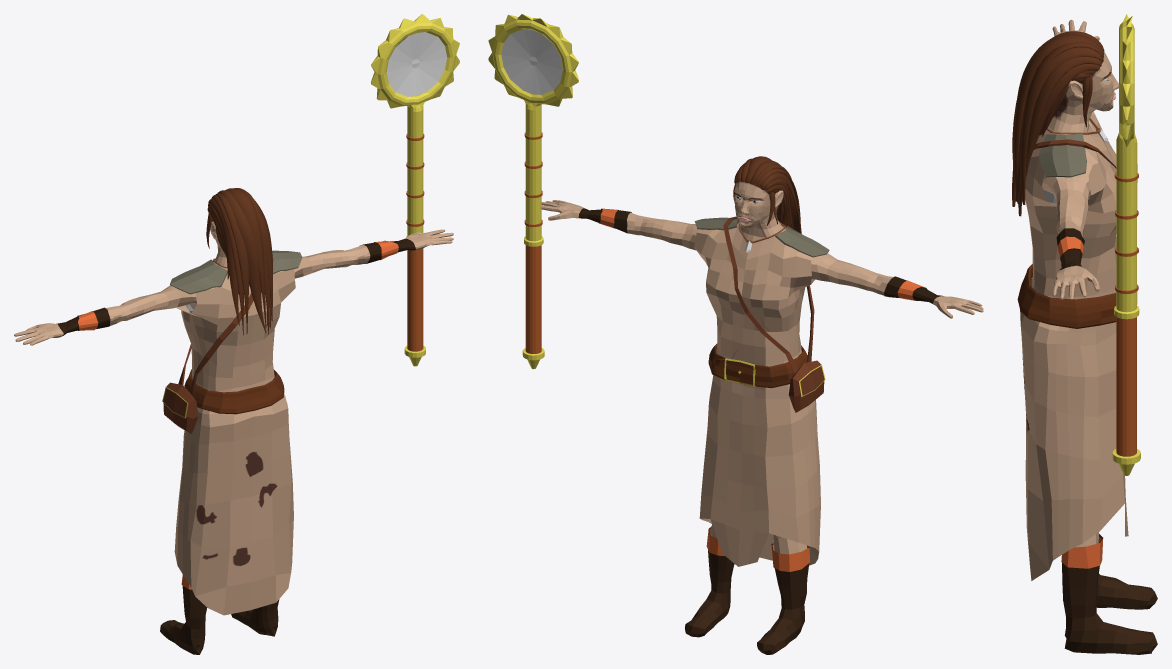
Rendered from clerichuman.fbx.
3 renders of one model, left to right at view 1: azimuth 30°, elevation 25°; view 2: azimuth 150°, elevation 25°; view 3: azimuth 270°, elevation 25°, orthographic. The views are drawn at different scales.
Visible parts, largest first — view 1: robe, staff, body, boots, belt, pack, NurbsPath.002, NurbsPath.001, NurbsPath.005, NurbsPath.007, NurbsPath.006; view 2: robe, staff, body, boots, pack, belt; view 3: robe, staff, body, boots, belt, NurbsPath.004, NurbsPath.001, NurbsPath.008, NurbsPath.009, NurbsPath.003, NurbsPath.002, pack (+2 smaller).
Part boxes in pixels (box(x1,y1,x2,y2)): robe: box(170, 250, 302, 615); staff: box(371, 14, 459, 366); body: box(14, 212, 453, 345); boots: box(160, 574, 279, 654); belt: box(184, 369, 284, 414); pack: box(162, 258, 273, 433); NurbsPath.002: box(218, 190, 266, 332); NurbsPath.001: box(225, 188, 266, 327); NurbsPath.005: box(215, 193, 249, 333); NurbsPath.007: box(208, 198, 239, 325); NurbsPath.006: box(211, 195, 243, 335); robe: box(694, 217, 829, 566); staff: box(488, 14, 578, 369); body: box(541, 180, 983, 554); boots: box(685, 527, 810, 654); pack: box(723, 216, 825, 412); belt: box(708, 343, 807, 388); robe: box(1020, 111, 1128, 580); staff: box(1112, 14, 1140, 475); body: box(1041, 19, 1118, 547); boots: box(1061, 534, 1157, 654); belt: box(1017, 264, 1116, 328); NurbsPath.004: box(1020, 47, 1103, 204); NurbsPath.001: box(1013, 34, 1103, 203); NurbsPath.008: box(1018, 57, 1102, 210); NurbsPath.009: box(1015, 63, 1099, 201); NurbsPath.003: box(1018, 42, 1103, 216); NurbsPath.002: box(1012, 31, 1104, 206); pack: box(1033, 139, 1116, 168).
Bounding box in the file's own units: 183 × 212 × 38.11.
Materials: 22 (2 with a texture image).
